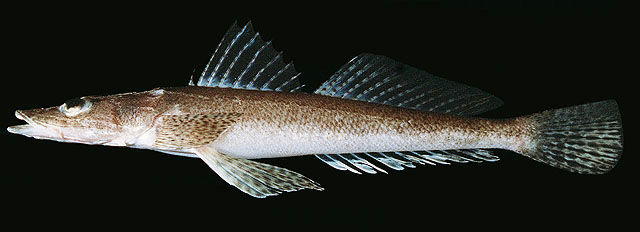fish: (8, 21, 623, 199)
